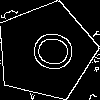O: (21, 26, 77, 75)
